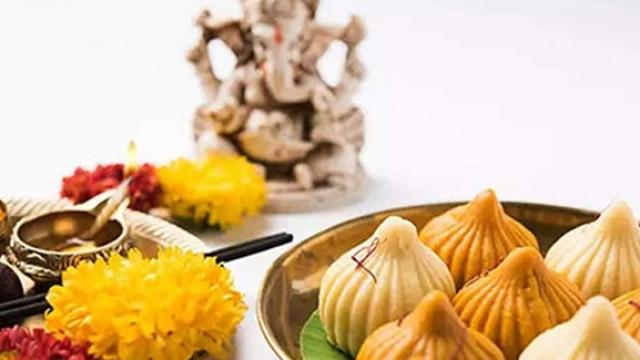modak: (329, 217, 463, 338), (419, 181, 554, 288), (462, 252, 588, 346), (531, 193, 640, 297)
